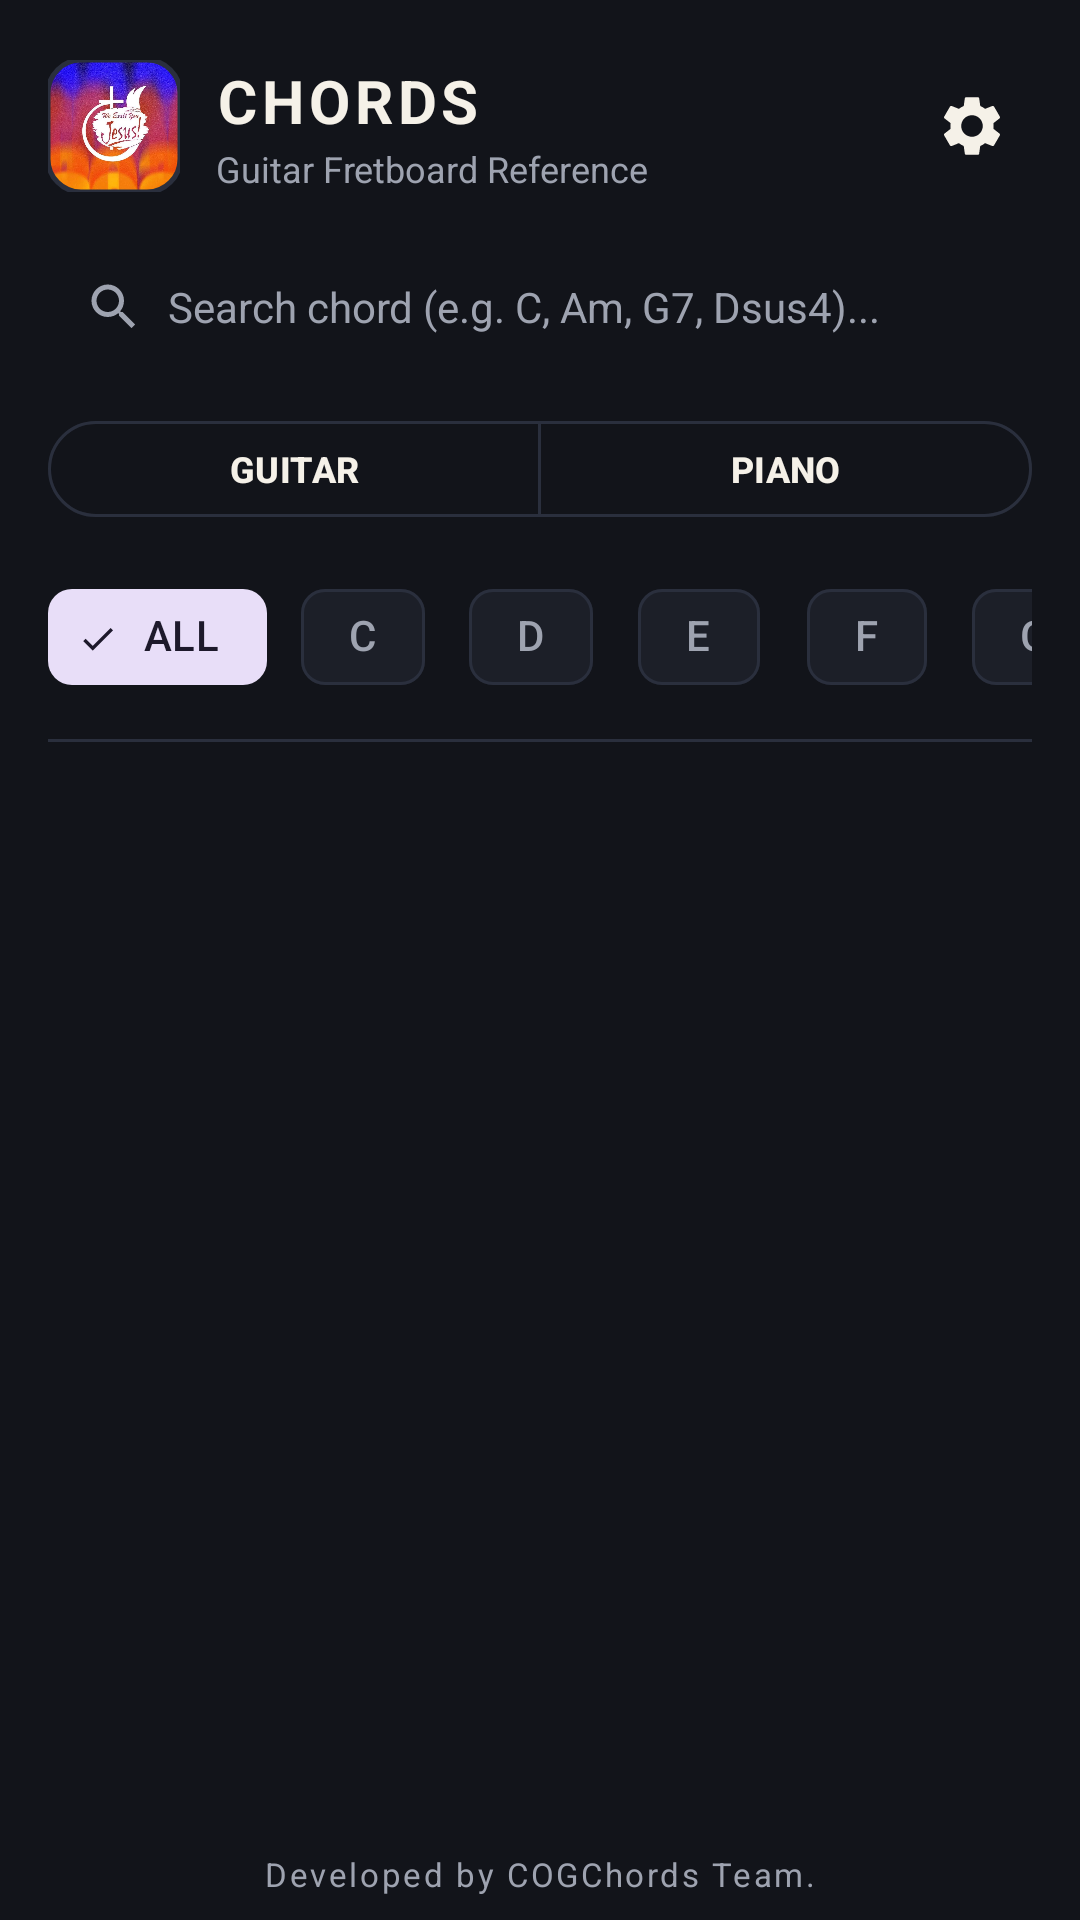

Point at icon controls on the screen. Image size 1080x1920, points as [x,y].
Settings: [972,126]
